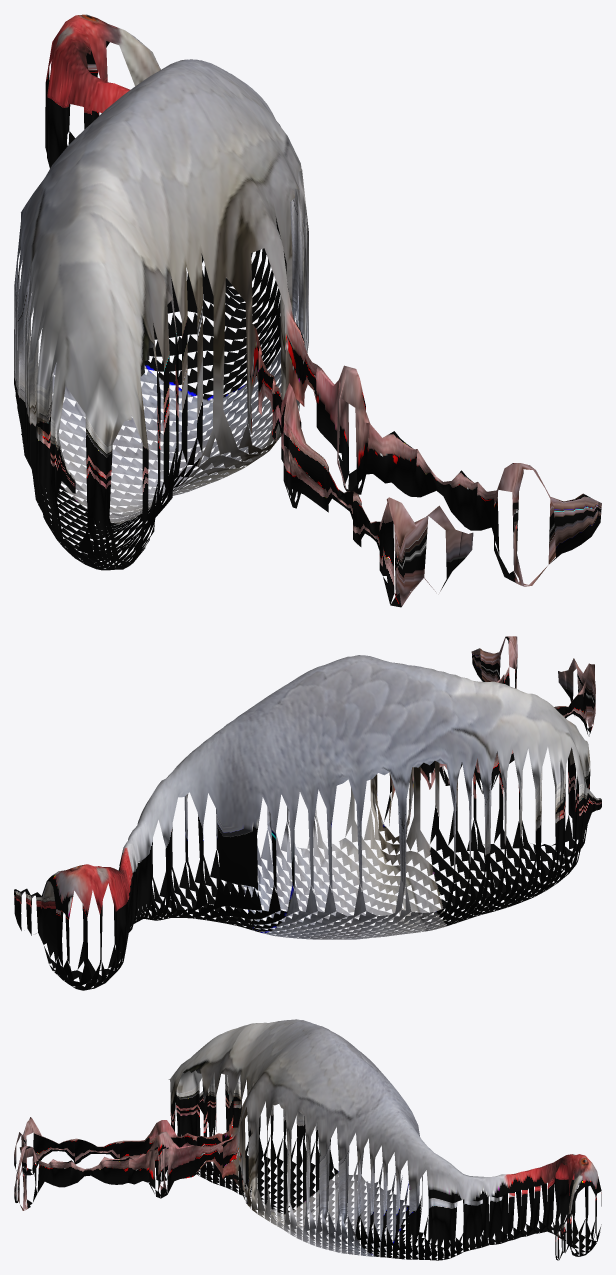
Rendered from crane.glb.
The picture shows the model from 3 angles, top to bottom: view 1: azimuth 30°, elevation 25°; view 2: azimuth 150°, elevation 25°; view 3: azimuth 270°, elevation 25°; orthographic projection. The views are drawn at different scales.
Visible parts, largest first — view 1: crane_obj; view 2: crane_obj; view 3: crane_obj.
Boxes of the visible parts, <box> form: crane_obj: <box>14,14,601,607</box>; crane_obj: <box>14,636,601,990</box>; crane_obj: <box>14,1019,601,1260</box>.
Size of the model in its own units: 1.01 by 0.7734 by 1.91.
Materials: 1 (1 with a texture image).
